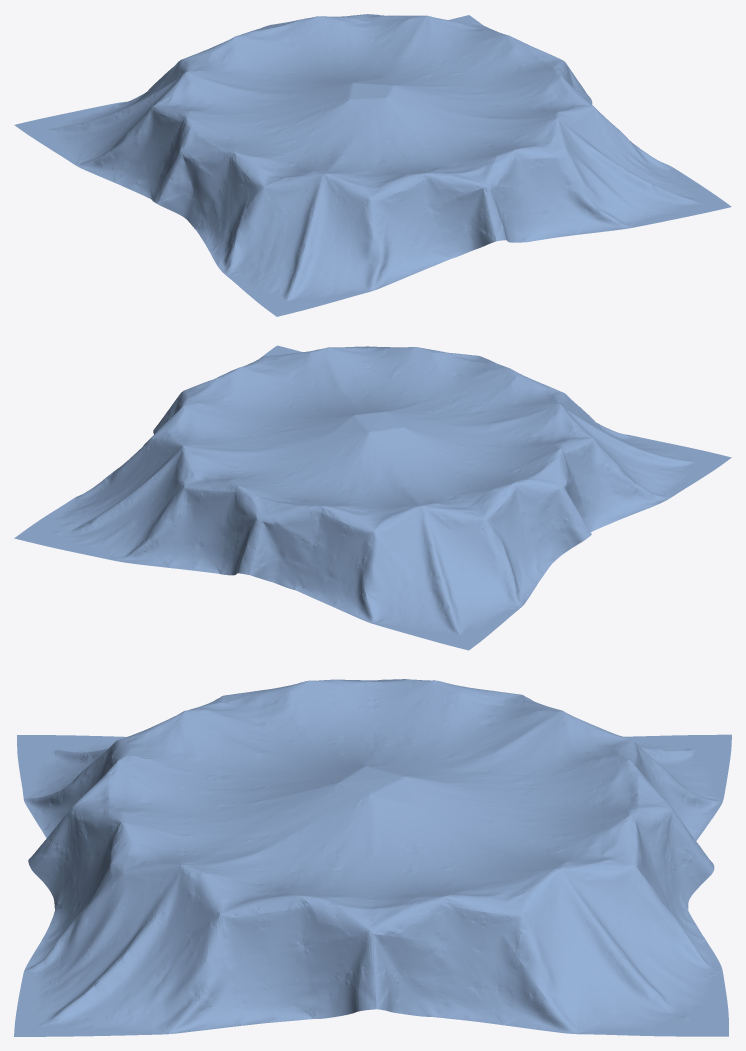
The model's file is level_4.glb.
3 views of the same model, one above another, from view 1: azimuth 30°, elevation 25°; view 2: azimuth 150°, elevation 25°; view 3: azimuth 270°, elevation 25° (orthographic). The views are drawn at different scales.
Parts seen in each view (by area): view 1: world; view 2: world; view 3: world.
Part boxes in pixels (bbox=[...]): world: bbox=[14, 14, 731, 316]; world: bbox=[14, 345, 731, 650]; world: bbox=[14, 679, 731, 1036].
Size of the model in its own units: 0.6006 by 0.0969 by 0.6032.
